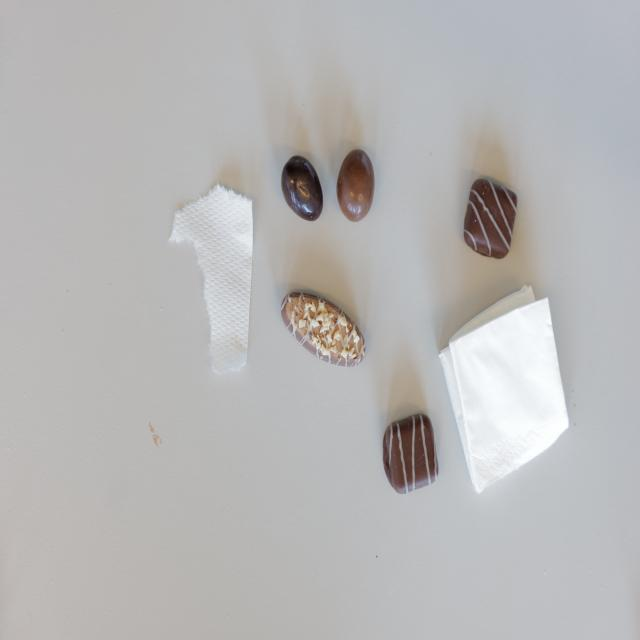Amandina: (280, 290, 367, 369)
Jelly_Black: (281, 155, 324, 221)
Jelly_Milk: (336, 150, 375, 223)
Stracciatella: (382, 413, 439, 496), (463, 178, 519, 258)
